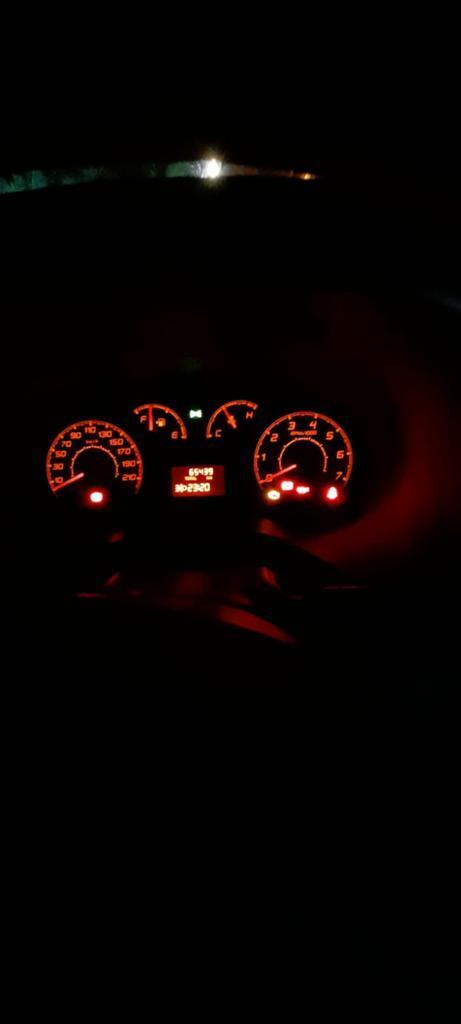0: (204, 482, 210, 490)
2: (186, 483, 192, 491), (199, 482, 204, 491)
3: (192, 482, 197, 491), (174, 483, 179, 491), (203, 467, 208, 474)
4: (198, 467, 202, 474)
5: (193, 467, 198, 475)
6: (187, 467, 193, 474)
9: (208, 467, 212, 474)
odometer: (168, 464, 224, 497)
